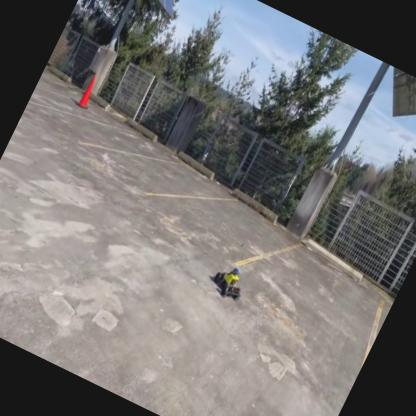cone: (72, 72, 104, 114)
mushr_car: (203, 254, 256, 309)
